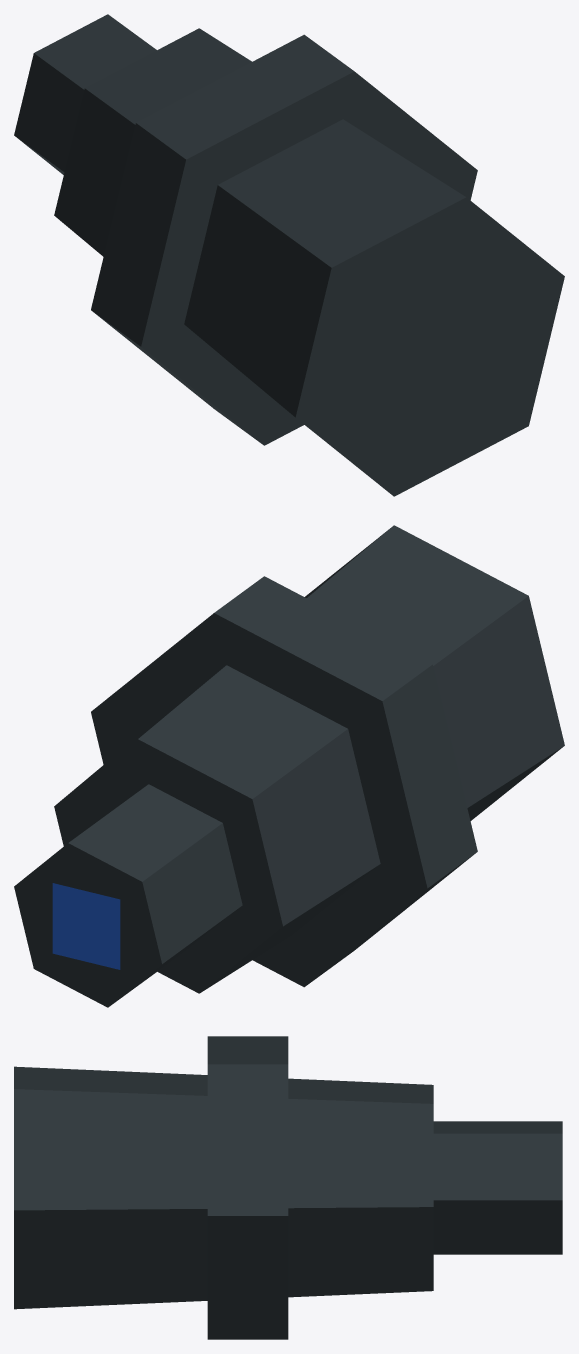
3 views of the same model, one above another, from view 1: azimuth 30°, elevation 25°; view 2: azimuth 150°, elevation 25°; view 3: azimuth 270°, elevation 25° (orthographic). The views are drawn at different scales.
Visible parts, largest first — view 1: mount; view 2: mount; view 3: mount.
Part boxes in pixels (x1=…): mount: x1=14, y1=14, x2=564, y2=496; mount: x1=14, y1=525, x2=564, y2=1007; mount: x1=14, y1=1036, x2=562, y2=1339.
Bounding box in the file's own units: 3.86 × 3.86 × 6.83.
